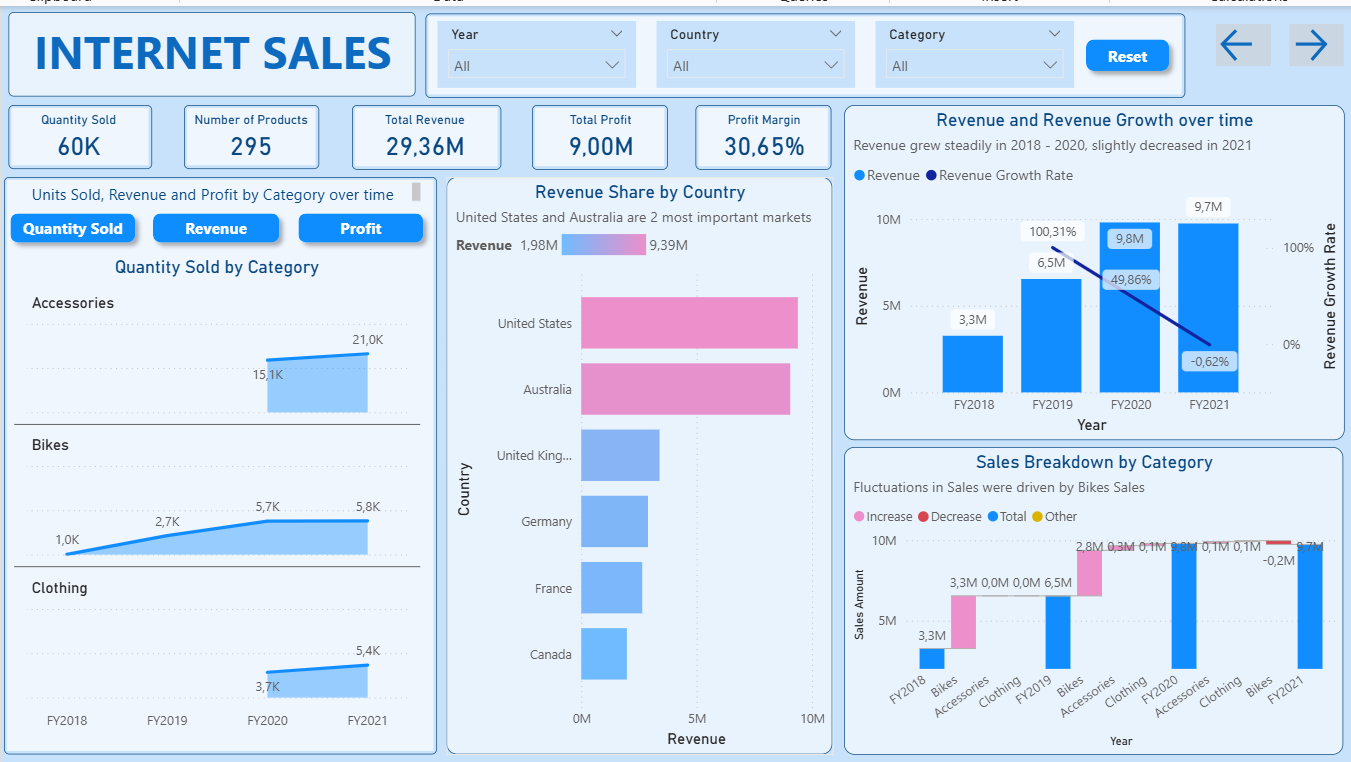

This screenshot's page, from the dashboard's own definition file:
{"tool":"powerbi","page":{"name":"Internet Sales","canvas":[1280,720],"ordinal":1},"visuals":[{"type":"waterfallChart","title":"Sales Breakdown by Category","fields":{"Category":["Date.Calendar.Year","Date.Calendar.Quarter","Date.Calendar.Month"],"Y":["Sum(Internet Sales.Sales Amount)"],"Breakdown":["Product.Category"]},"box":[798.1,417.5,472.9,291.1],"z":0},{"type":"textbox","box":[7.2,6,385.4,80.2],"z":1000},{"type":"actionButton","box":[1220.5,17.4,51.3,40],"z":2000},{"type":"actionButton","box":[1150.8,17.4,52.3,40],"z":3000},{"type":"shape","box":[402.2,7.2,719.4,80.2],"z":4000},{"type":"slicer","fields":{"Values":["Product.Category"]},"box":[828.3,14.4,187.9,63.4],"z":5000},{"type":"slicer","fields":{"Values":["Geography (Customer).Country"]},"box":[620.7,14.4,187.9,63.4],"z":6000},{"type":"slicer","fields":{"Values":["Date.Calendar.Year"]},"box":[413,14.4,187.9,63.4],"z":7000},{"type":"shape","box":[1018.7,22.7,97,47.9],"z":8000},{"type":"lineStackedColumnComboChart","title":"Revenue and Revenue Growth over time","fields":{"Category":["Date.Calendar.Year","Date.Calendar.Quarter","Date.Calendar.Month"],"Y":["Fact.Revenue"],"Y2":["Fact.Revenue Growth Rate"]},"box":[797.5,93.8,473.8,317.5],"z":9000},{"type":"shape","box":[2.2,162.2,410,546.7],"z":10000},{"type":"textbox","box":[7.5,162.5,395,28.8],"z":11000},{"type":"areaChart","title":"Quantity Sold by Category","fields":{"Category":["Date.Calendar.Year","Date.Calendar.Quarter","Date.Calendar.Month"],"Rows":["Product.Category"],"Y":["Fact.Count Order Line"]},"box":[7.5,237.5,395,460],"z":14000},{"type":"shape","box":[0,187.5,136.3,45.4],"z":15000},{"type":"shape","box":[134.9,187.5,137.8,45.4],"z":16000},{"type":"shape","box":[272.7,187.5,136.3,45.4],"z":17000},{"type":"shape","box":[7,94.1,135.9,60.4],"z":18000},{"type":"card","title":"Quantity Sold","fields":{"Values":["Fact.Count Order Line"]},"box":[8.9,101.1,130,68.9],"z":19000},{"type":"shape","box":[173.9,94.1,127.8,60.4],"z":20000},{"type":"shape","box":[332.5,93.8,141.2,61.2],"z":21000},{"type":"shape","box":[502.5,93.8,128.8,61.2],"z":22000},{"type":"shape","box":[657.5,93.8,128.8,61.2],"z":23000},{"type":"card","title":"Number of Products","fields":{"Values":["Count(Product.Product)"]},"box":[172.2,101.1,130,68.9],"z":24000},{"type":"card","title":"Total Revenue","fields":{"Values":["Fact.Revenue"]},"box":[330,101.2,143.8,68.8],"z":25000},{"type":"card","title":"Total Profit","fields":{"Values":["Fact.Profit"]},"box":[502.5,101.2,130,68.8],"z":26000},{"type":"card","title":"Profit Margin","fields":{"Values":["Fact.Profit Margin"]},"box":[657.5,101.2,130,68.8],"z":27000},{"type":"clusteredBarChart","title":"Revenue Share by Country","fields":{"Y":["Fact.Revenue"],"Category":["Geography (Customer).Country"]},"box":[422.2,162.2,365.6,546.7],"z":28000}]}

Visuals, with their boxes on the page's 1280x720 design canvas (x1, y1, x2, y2). These are canvas units, not pixel positions in the 1351x762 screenshot, which may show the page scaled, cropped or inside an application window:
"Sales Breakdown by Category" waterfallChart: crop(798, 418, 1271, 709)
textbox: crop(7, 6, 393, 86)
actionButton: crop(1220, 17, 1272, 57)
actionButton: crop(1151, 17, 1203, 57)
shape: crop(402, 7, 1122, 87)
slicer - Product.Category: crop(828, 14, 1016, 78)
slicer - Geography (Customer).Country: crop(621, 14, 809, 78)
slicer - Date.Calendar.Year: crop(413, 14, 601, 78)
shape: crop(1019, 23, 1116, 71)
"Revenue and Revenue Growth over time" lineStackedColumnComboChart: crop(798, 94, 1271, 411)
shape: crop(2, 162, 412, 709)
textbox: crop(8, 162, 402, 191)
"Quantity Sold by Category" areaChart: crop(8, 238, 402, 698)
shape: crop(0, 188, 136, 233)
shape: crop(135, 188, 273, 233)
shape: crop(273, 188, 409, 233)
shape: crop(7, 94, 143, 154)
"Quantity Sold" card: crop(9, 101, 139, 170)
shape: crop(174, 94, 302, 154)
shape: crop(332, 94, 474, 155)
shape: crop(502, 94, 631, 155)
shape: crop(658, 94, 786, 155)
"Number of Products" card: crop(172, 101, 302, 170)
"Total Revenue" card: crop(330, 101, 474, 170)
"Total Profit" card: crop(502, 101, 632, 170)
"Profit Margin" card: crop(658, 101, 788, 170)
"Revenue Share by Country" clusteredBarChart: crop(422, 162, 788, 709)
